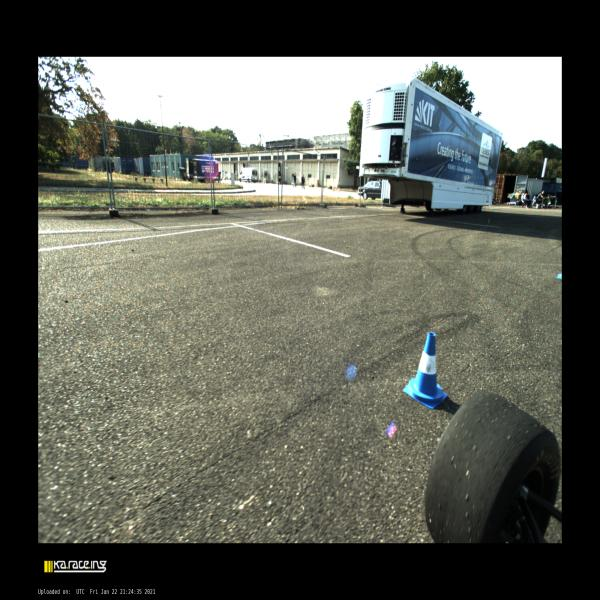blue_cone: (403, 332, 447, 408)
